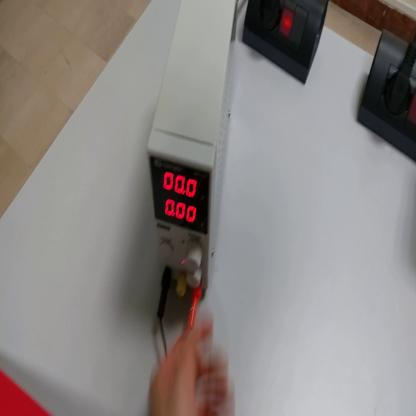hand: (149, 313, 240, 416)
power supply: (149, 1, 242, 295)
socket: (358, 25, 416, 163), (243, 1, 329, 86)
